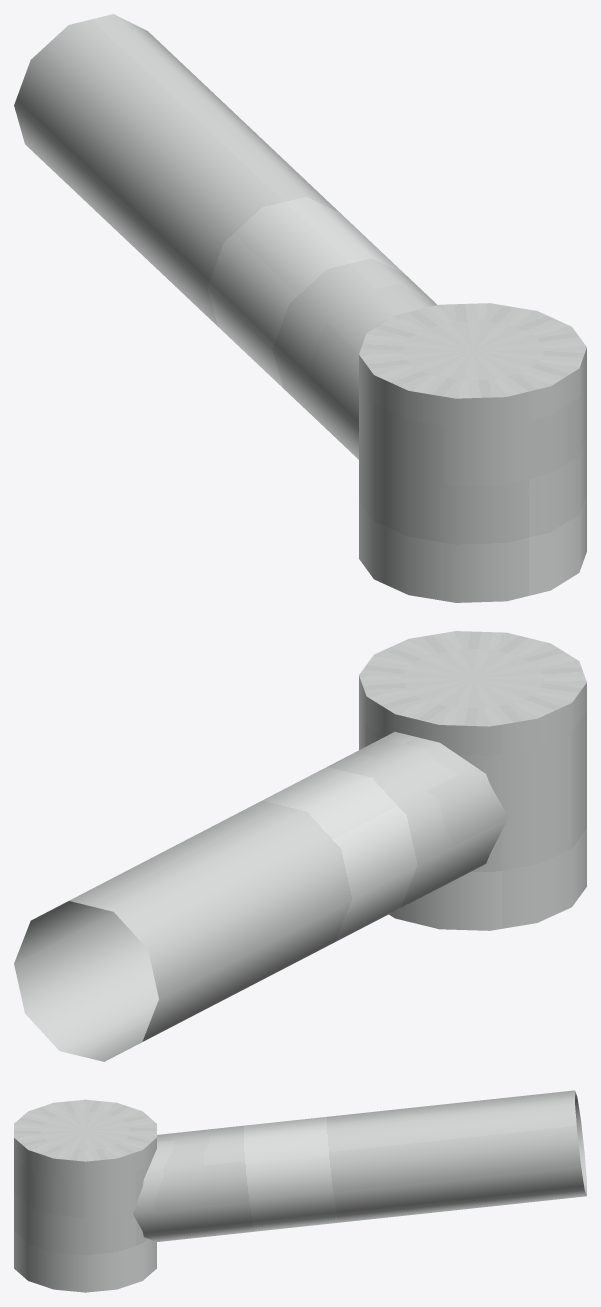
Rendered from trusssignalarm_sloped8_c0_pedestal.obj.
The picture shows the model from 3 angles, top to bottom: view 1: azimuth 30°, elevation 25°; view 2: azimuth 150°, elevation 25°; view 3: azimuth 270°, elevation 25°; orthographic projection. The views are drawn at different scales.
Visible parts, largest first — view 1: trusssignalarm_sloped8_c0_pedestal; view 2: trusssignalarm_sloped8_c0_pedestal; view 3: trusssignalarm_sloped8_c0_pedestal.
Boxes of the visible parts, left/top/right/bottom form: trusssignalarm_sloped8_c0_pedestal: left=14, top=14, right=586, bottom=602; trusssignalarm_sloped8_c0_pedestal: left=14, top=631, right=586, bottom=1061; trusssignalarm_sloped8_c0_pedestal: left=14, top=1090, right=586, bottom=1292.
Size of the model in its own units: 0.4438 by 0.5487 by 1.73.
